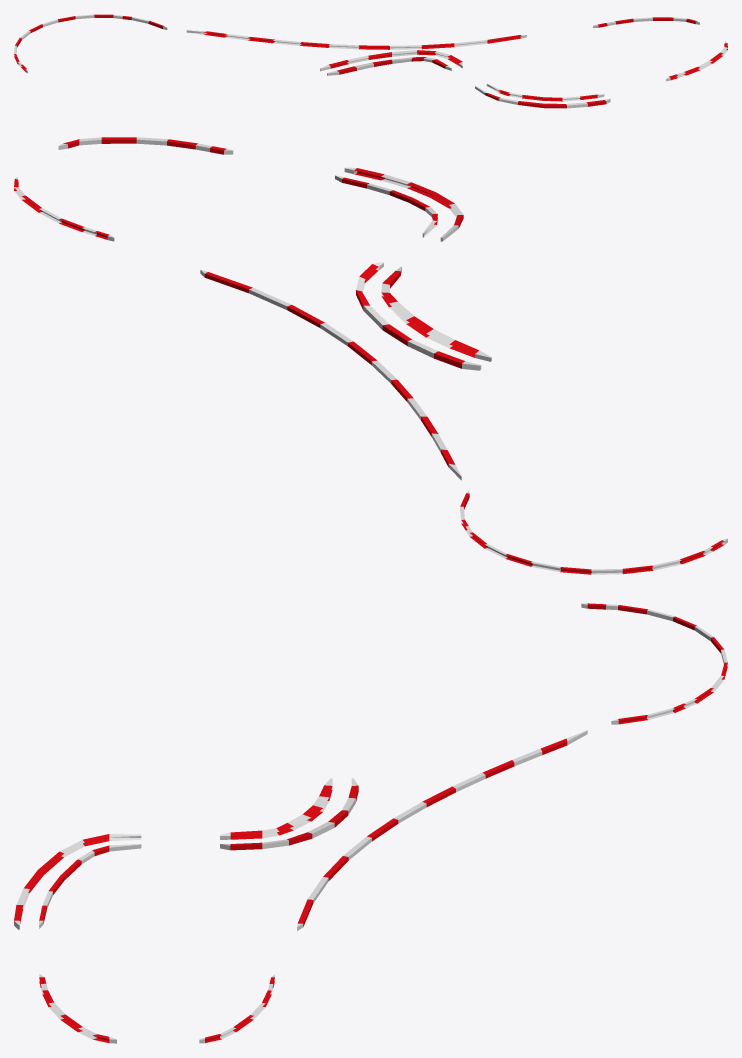
File: peana.fbx
3 renders of one model, top to bottom at view 1: azimuth 30°, elevation 25°; view 2: azimuth 150°, elevation 25°; view 3: azimuth 270°, elevation 25°, orthographic. The views are drawn at different scales.
Visible parts, largest first — view 1: Peana; view 2: Peana; view 3: Peana.
Part boxes in pixels (bbox=[...]): Peana: bbox=[14, 14, 727, 108]; Peana: bbox=[14, 137, 727, 574]; Peana: bbox=[14, 603, 727, 1043].
Size of the model in its own units: 486 by 10.23 by 336.
